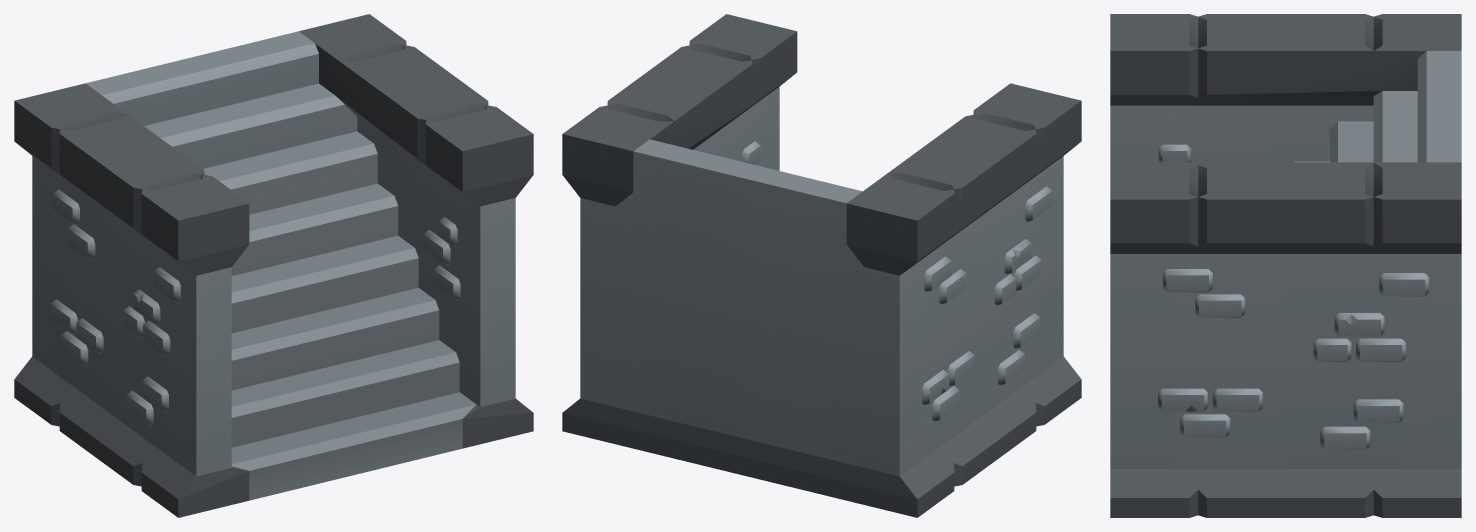
Rendered from stairs_walled.glb.
3 renders of one model, left to right at view 1: azimuth 30°, elevation 25°; view 2: azimuth 150°, elevation 25°; view 3: azimuth 270°, elevation 25°, orthographic. The views are drawn at different scales.
Visible parts, largest first — view 1: stairs_walled; view 2: stairs_walled; view 3: stairs_walled.
Part boxes in pixels (x1=…): stairs_walled: x1=14, y1=14, x2=533, y2=517; stairs_walled: x1=562, y1=14, x2=1081, y2=517; stairs_walled: x1=1110, y1=14, x2=1461, y2=517.
Size of the model in its own units: 5 by 4 by 4.
Materials: 1 (1 with a texture image).
